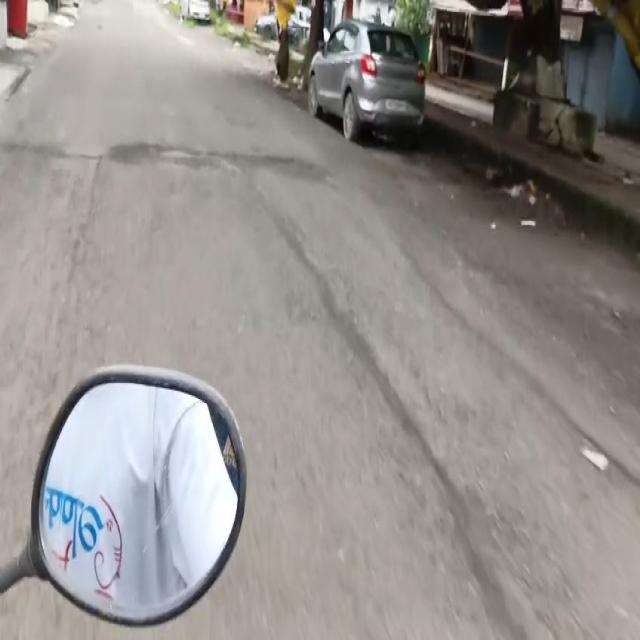road-pothole: (281, 203, 639, 630), (102, 140, 238, 175), (256, 156, 325, 187)
